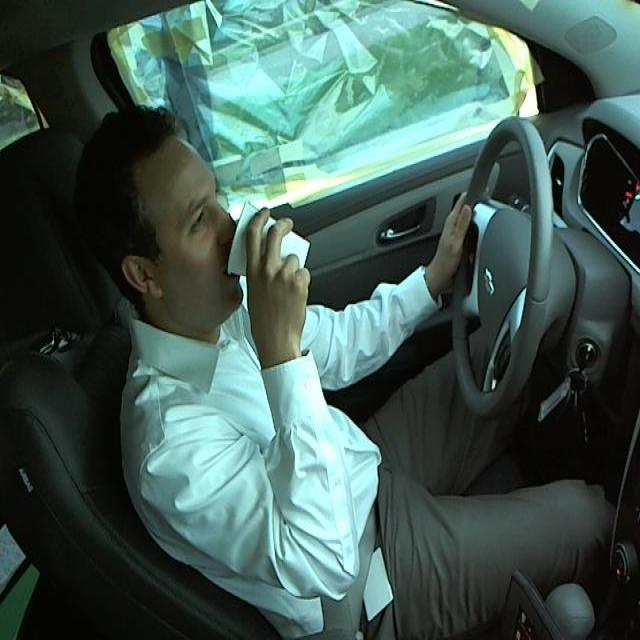Seatbelt: (219, 200, 312, 292)
